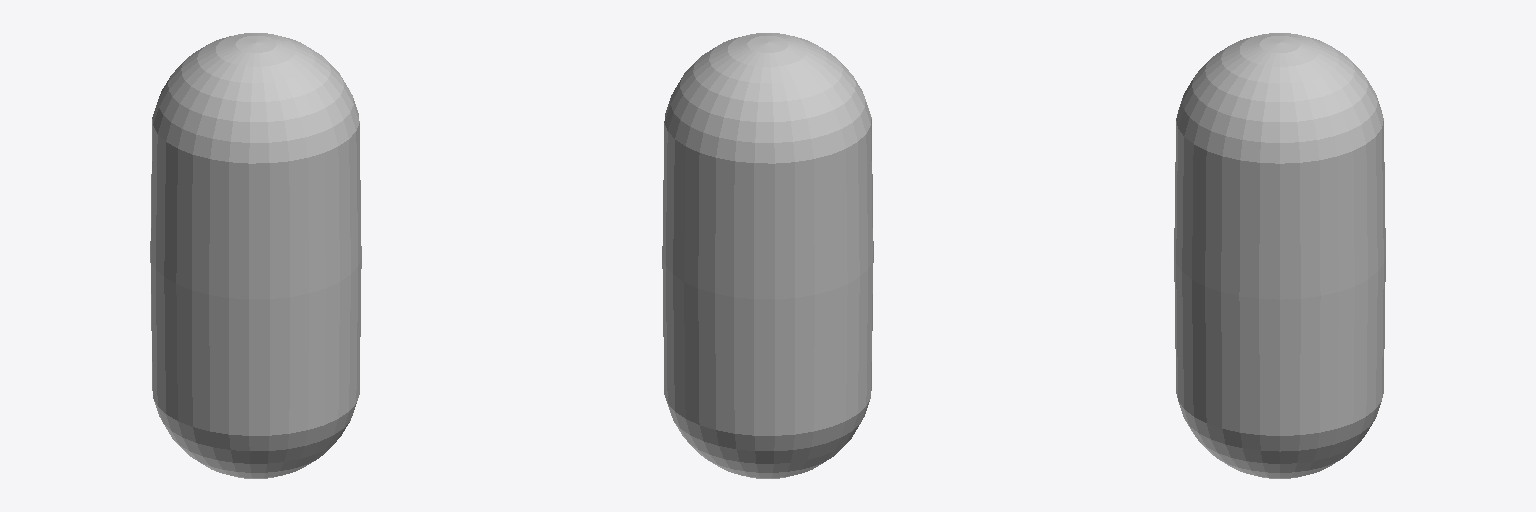
The model's file is Actor.obj.
The picture shows the model from 3 angles: view 1: azimuth 30°, elevation 25°; view 2: azimuth 150°, elevation 25°; view 3: azimuth 270°, elevation 25°; orthographic projection.
Visible parts, largest first — view 1: Sphere; view 2: Sphere; view 3: Sphere.
Part boxes in pixels (x1,y1,x2,y2): Sphere: (150, 33, 361, 478); Sphere: (662, 33, 873, 478); Sphere: (1174, 33, 1385, 478).
Bounding box in the file's own units: 30.21 × 67.18 × 30.21.